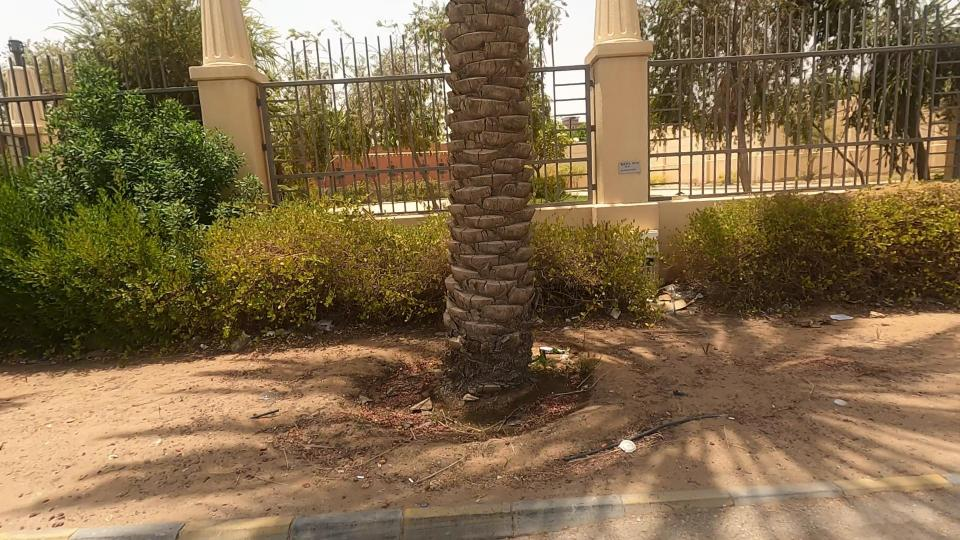GARBAGE: (766, 273, 928, 354), (492, 315, 613, 391), (593, 422, 660, 472)
